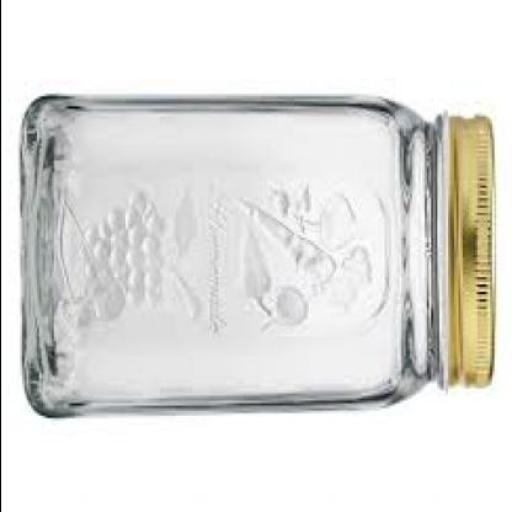glass: (23, 91, 451, 419)
metal: (451, 114, 495, 388)
